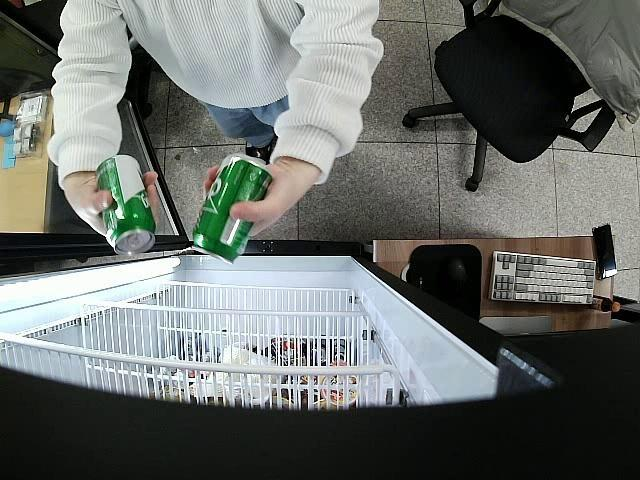12_chilsungCider: (192, 153, 272, 262), (96, 153, 156, 260)
